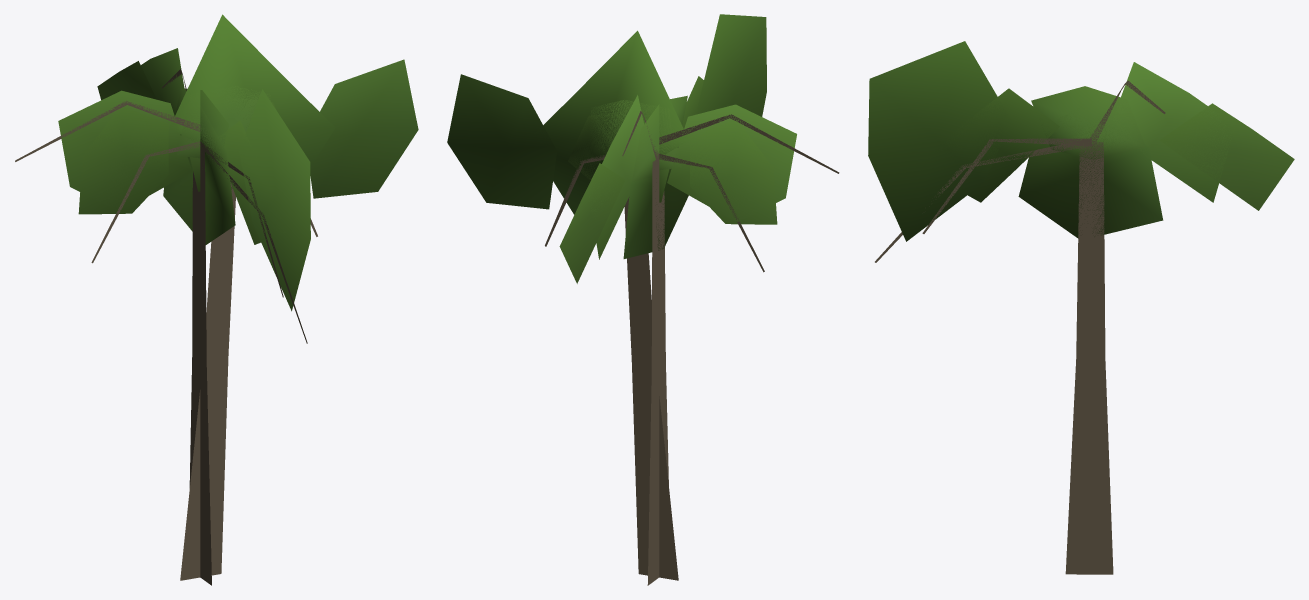
The model's file is palm-c.card.glb.
3 renders of one model, left to right at view 1: azimuth 30°, elevation 25°; view 2: azimuth 150°, elevation 25°; view 3: azimuth 270°, elevation 25°, orthographic. The views are drawn at different scales.
Bounding box in the file's own units: 5.46 × 7.23 × 5.
